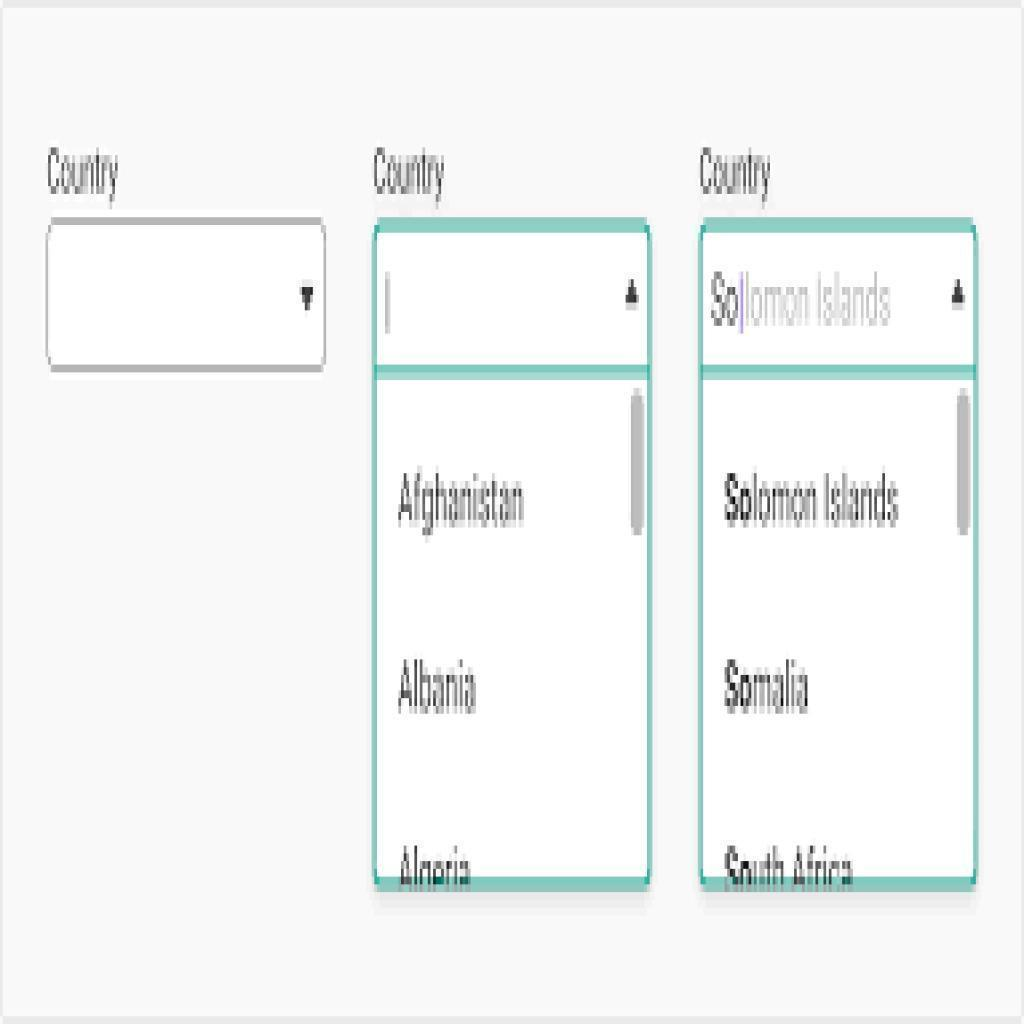dropdown: (377, 224, 646, 379), (46, 220, 323, 369), (700, 228, 974, 376)
label: (719, 466, 908, 534), (392, 466, 532, 539), (722, 840, 855, 887), (719, 659, 818, 722), (396, 654, 480, 728), (391, 844, 483, 887)
